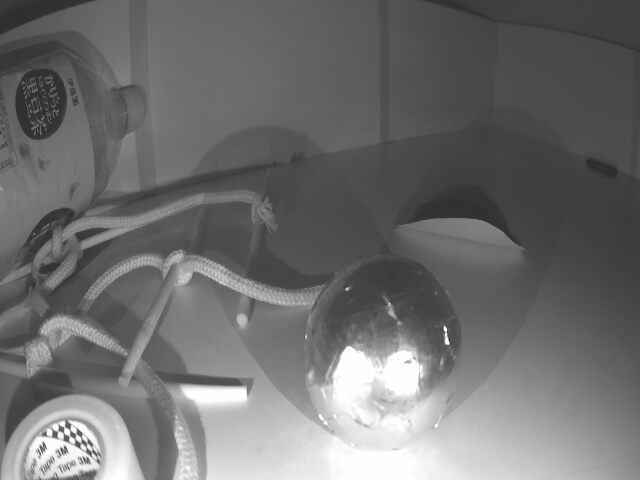Live: (302, 253, 456, 455)
